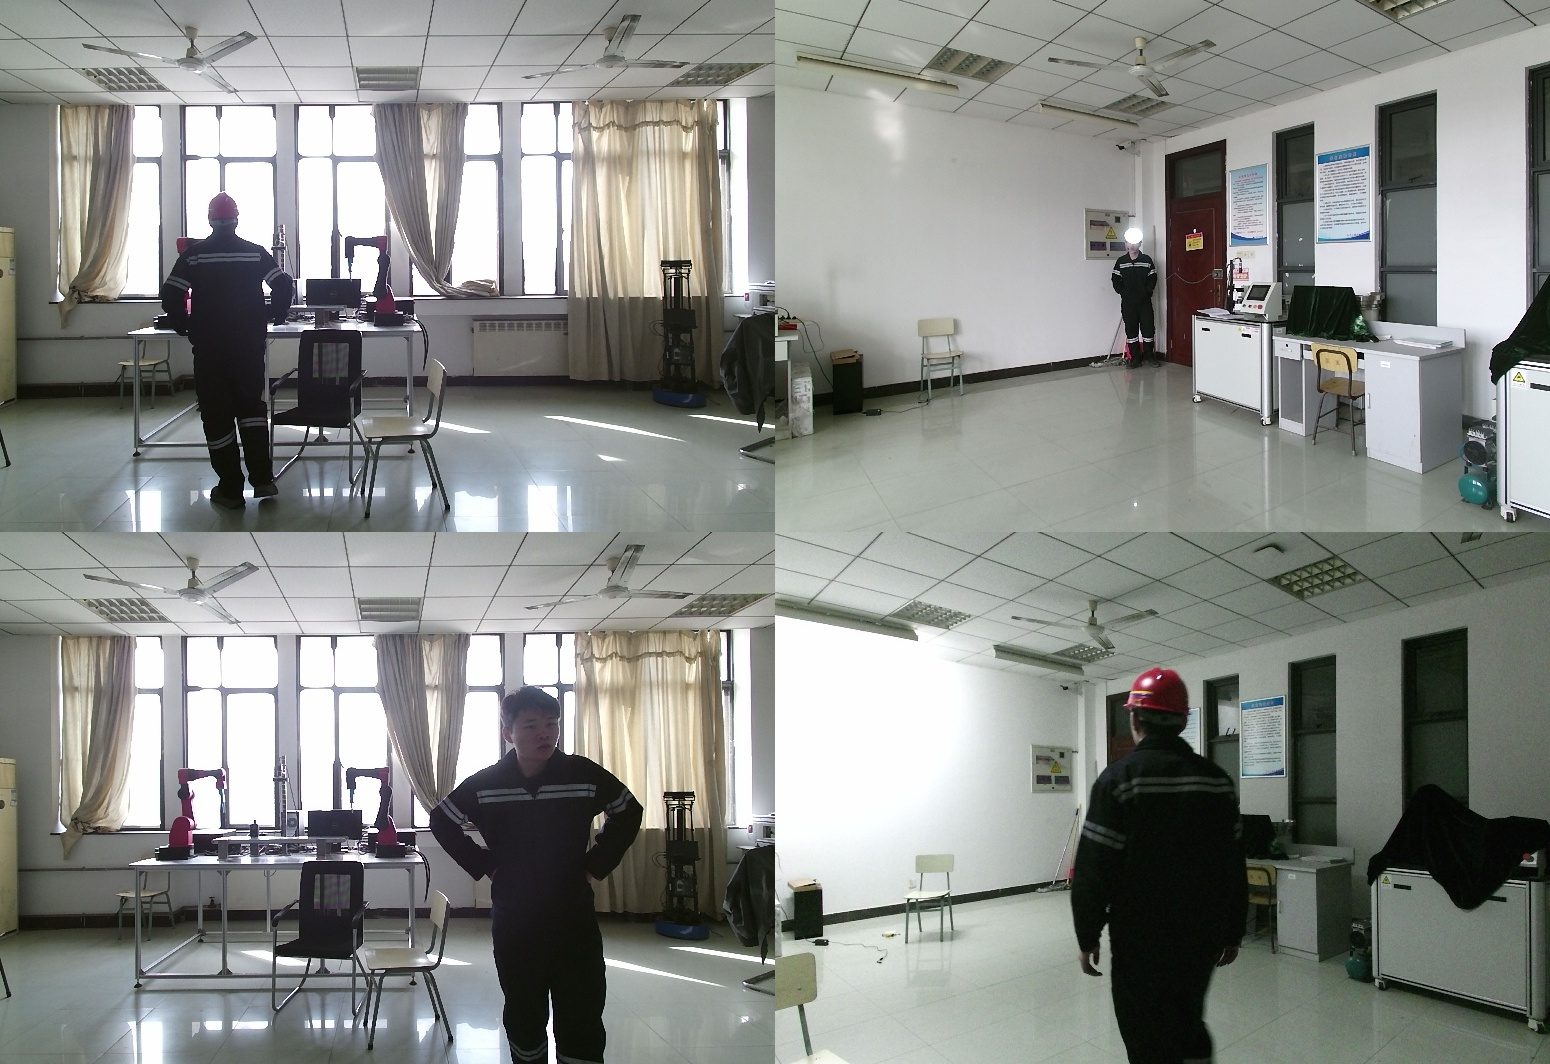person: (437, 684, 674, 1064), (1071, 669, 1265, 1064), (163, 194, 298, 506), (1113, 232, 1162, 369)
